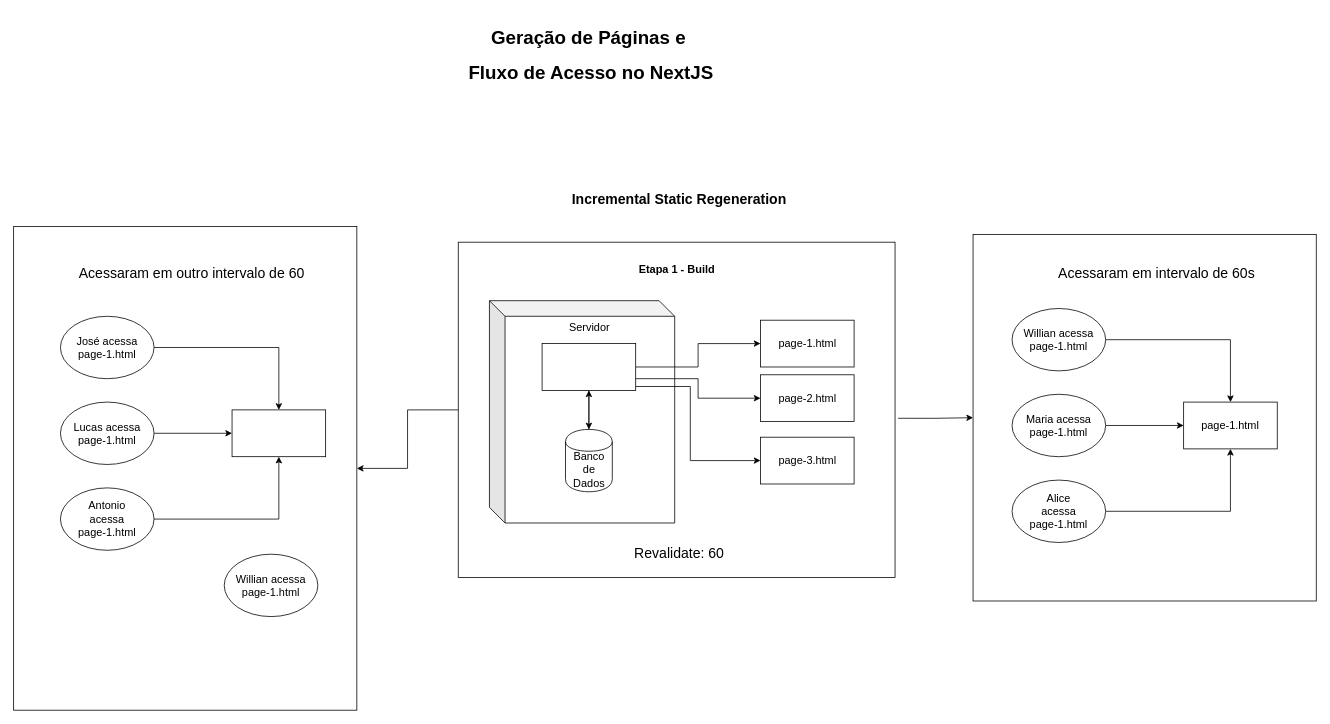
Image size: 1330x724. Some labels were removed from this diagram. Each missing label, with the box of its shape:
Código Next/React: (541, 343, 636, 390)
page-1-new.html: (231, 409, 326, 457)
